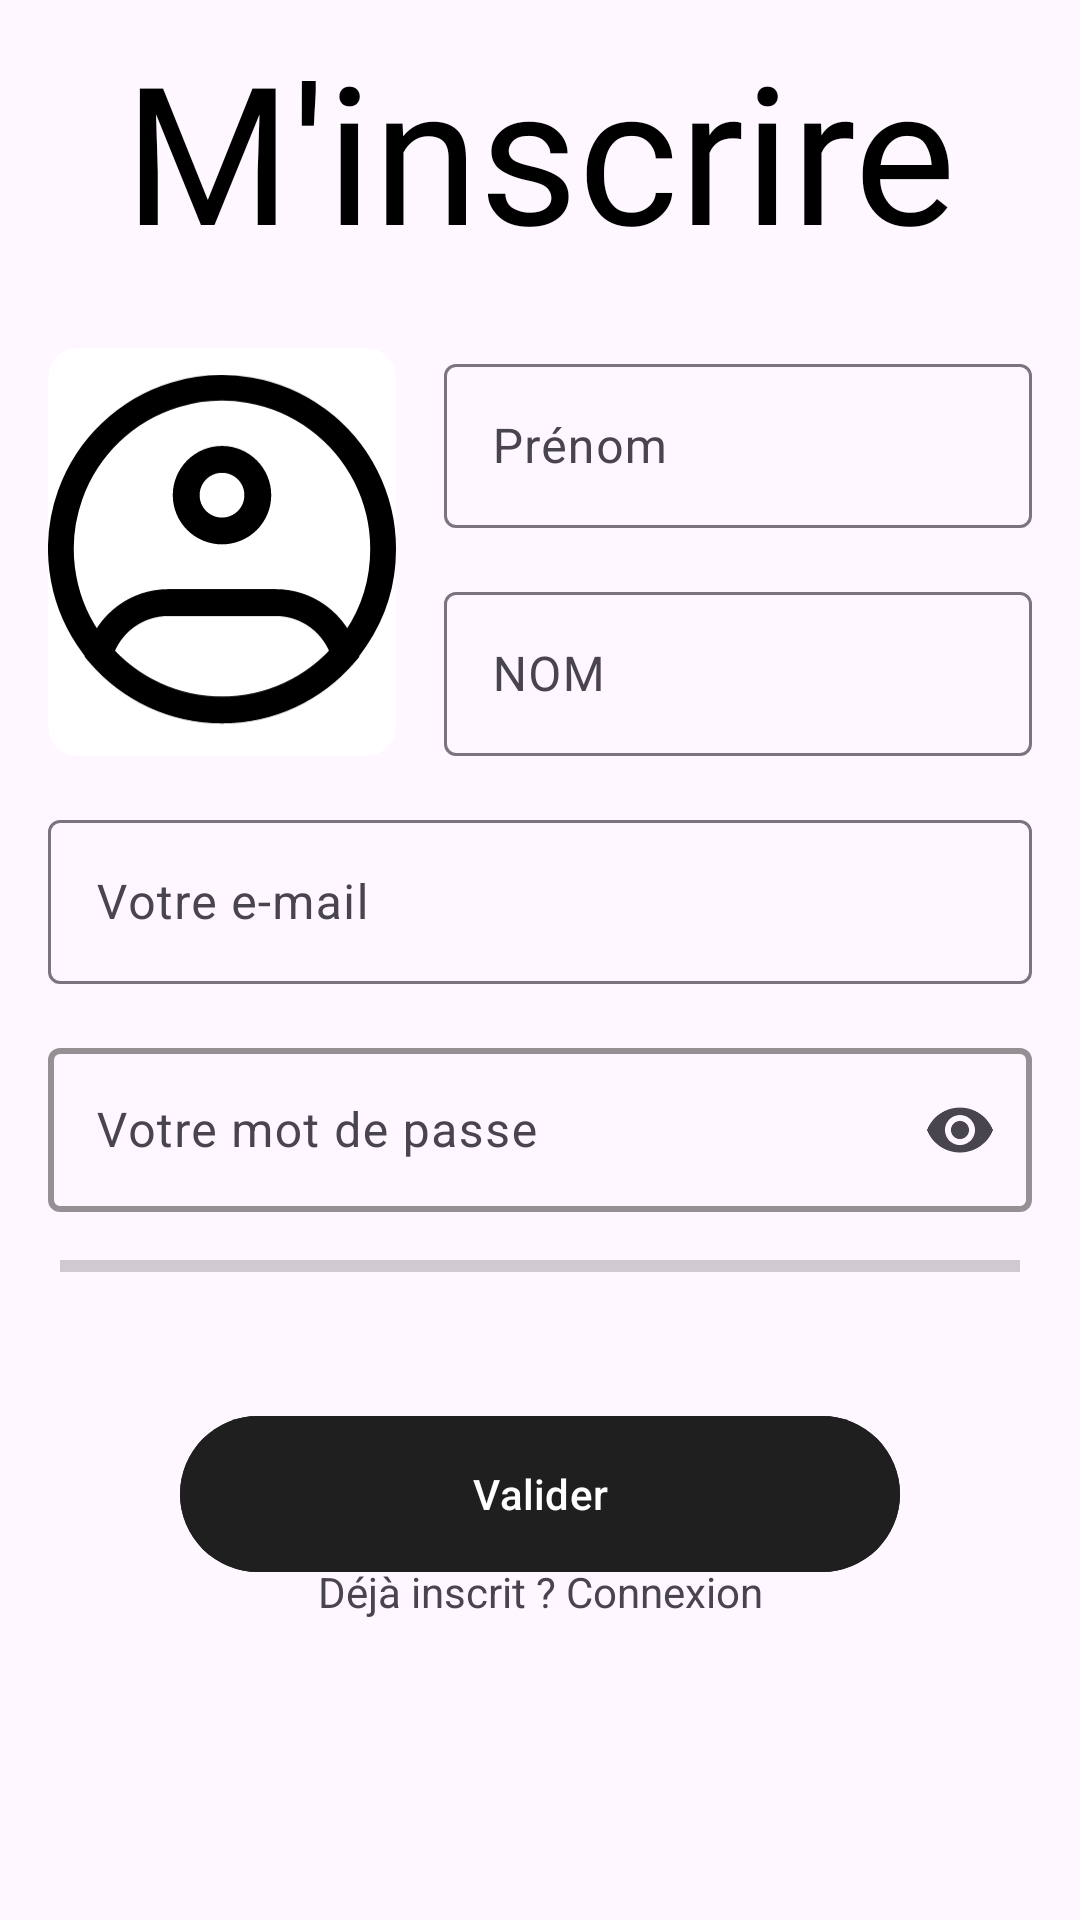

Icons on this 1080px×1920px Android screen, each with its box as bbox=[x1, y1, x2, y2]:
profile: bbox=[48, 375, 396, 724]
